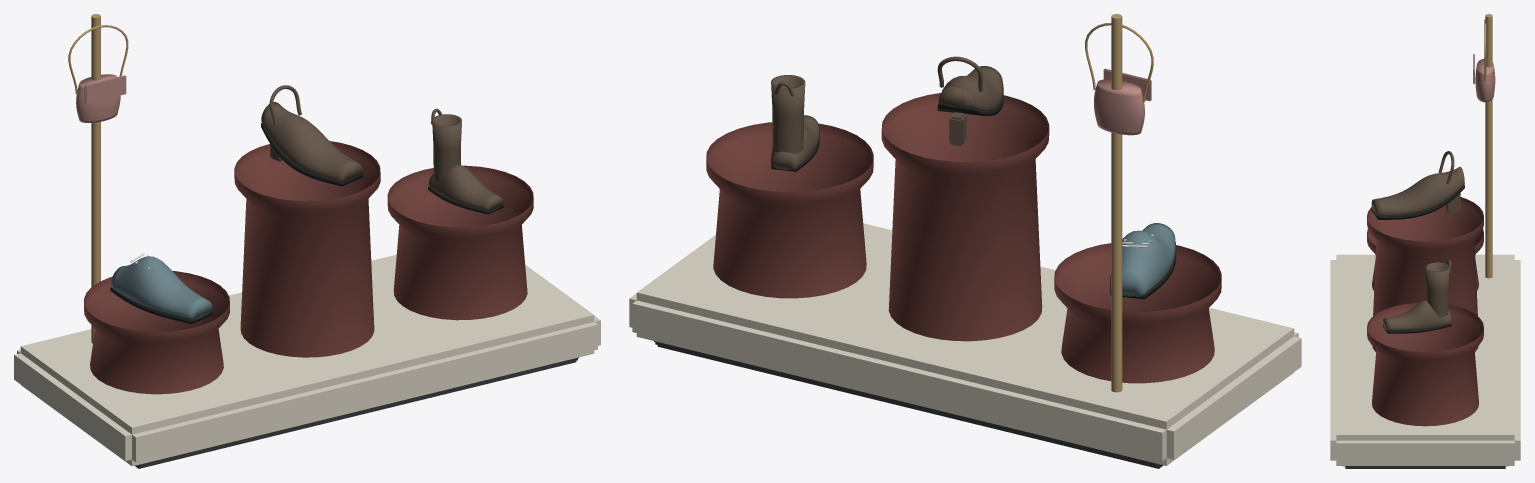
Rendered from collection_v29_shoes_1.glb.
The picture shows the model from 3 angles, left to right: view 1: azimuth 30°, elevation 25°; view 2: azimuth 150°, elevation 25°; view 3: azimuth 270°, elevation 25°; orthographic projection. The views are drawn at different scales.
Parts seen in each view (by area): view 1: collection_v29_shoes_1_V29_oxblood_lacquer, collection_v29_shoes_1_V29_ivory_lacquer, collection_v29_shoes_1_V23_smooth_leather.004, collection_v29_shoes_1_V23_sneaker_canvas.001, collection_v29_shoes_1_V23_smooth_leather.005, collection_v29_shoes_1_Satin_champagne, collection_v29_shoes_1_Anodised_graphite, collection_v29_shoes_1_V23_mineral_rose.002, collection_v29_shoes_1_Grip_rubber.007; view 2: collection_v29_shoes_1_V29_oxblood_lacquer, collection_v29_shoes_1_V29_ivory_lacquer, collection_v29_shoes_1_Satin_champagne, collection_v29_shoes_1_V23_smooth_leather.005, collection_v29_shoes_1_V23_sneaker_canvas.001, collection_v29_shoes_1_V23_smooth_leather.004, collection_v29_shoes_1_V23_mineral_rose.002, collection_v29_shoes_1_Anodised_graphite; view 3: collection_v29_shoes_1_V29_ivory_lacquer, collection_v29_shoes_1_V29_oxblood_lacquer, collection_v29_shoes_1_V23_smooth_leather.004, collection_v29_shoes_1_V23_smooth_leather.005, collection_v29_shoes_1_Satin_champagne, collection_v29_shoes_1_V23_mineral_rose.002, collection_v29_shoes_1_Anodised_graphite, collection_v29_shoes_1_Grip_rubber.007, collection_v29_shoes_1_Grip_rubber.008.
Part boxes in pixels (bbox=[...]): collection_v29_shoes_1_V29_oxblood_lacquer: bbox=[84, 141, 533, 394]; collection_v29_shoes_1_V29_ivory_lacquer: bbox=[14, 254, 600, 466]; collection_v29_shoes_1_V23_smooth_leather.004: bbox=[261, 85, 362, 181]; collection_v29_shoes_1_V23_sneaker_canvas.001: bbox=[110, 256, 212, 319]; collection_v29_shoes_1_V23_smooth_leather.005: bbox=[428, 108, 503, 210]; collection_v29_shoes_1_Satin_champagne: bbox=[91, 14, 100, 343]; collection_v29_shoes_1_Anodised_graphite: bbox=[135, 357, 579, 468]; collection_v29_shoes_1_V23_mineral_rose.002: bbox=[76, 74, 126, 122]; collection_v29_shoes_1_Grip_rubber.007: bbox=[261, 123, 363, 186]; collection_v29_shoes_1_V29_oxblood_lacquer: bbox=[706, 93, 1221, 383]; collection_v29_shoes_1_V29_ivory_lacquer: bbox=[629, 223, 1301, 465]; collection_v29_shoes_1_Satin_champagne: bbox=[1111, 14, 1122, 392]; collection_v29_shoes_1_V23_smooth_leather.005: bbox=[771, 75, 819, 169]; collection_v29_shoes_1_V23_sneaker_canvas.001: bbox=[1111, 223, 1175, 296]; collection_v29_shoes_1_V23_smooth_leather.004: bbox=[937, 56, 1002, 146]; collection_v29_shoes_1_V23_mineral_rose.002: bbox=[1094, 68, 1151, 135]; collection_v29_shoes_1_Anodised_graphite: bbox=[654, 341, 1163, 468]; collection_v29_shoes_1_V29_ivory_lacquer: bbox=[1330, 254, 1520, 465]; collection_v29_shoes_1_V29_oxblood_lacquer: bbox=[1367, 197, 1483, 426]; collection_v29_shoes_1_V23_smooth_leather.004: bbox=[1371, 151, 1464, 216]; collection_v29_shoes_1_V23_smooth_leather.005: bbox=[1383, 260, 1451, 330]; collection_v29_shoes_1_Satin_champagne: bbox=[1485, 14, 1492, 278]; collection_v29_shoes_1_V23_mineral_rose.002: bbox=[1473, 54, 1495, 102]; collection_v29_shoes_1_Anodised_graphite: bbox=[1343, 466, 1507, 468]; collection_v29_shoes_1_Grip_rubber.007: bbox=[1371, 185, 1464, 219]; collection_v29_shoes_1_Grip_rubber.008: bbox=[1383, 323, 1451, 333].
Bounding box in the file's own units: 1.8 × 1.36 × 0.78.
